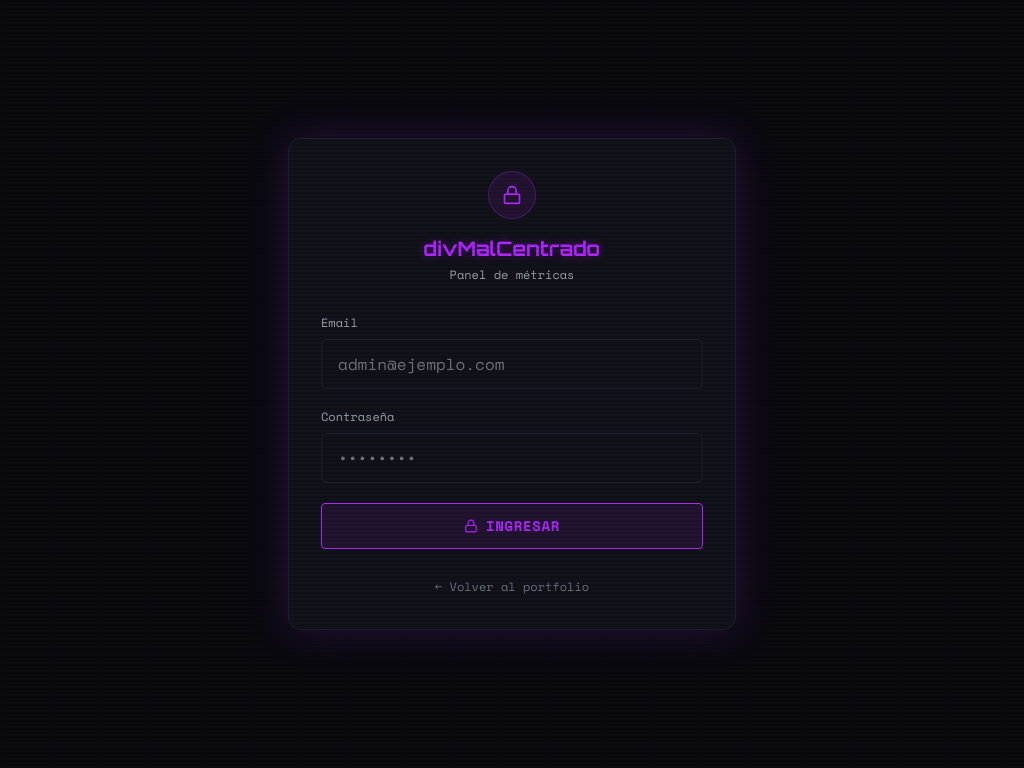
Test: Login Component › shows "Demasiados intentos" on 429
This screenshot has width=1024, height=768.
Type "admin@test.com" into the field with placeholder "admin@ejemplo.com" at coordinates (512, 364), box [321,339,703,389]
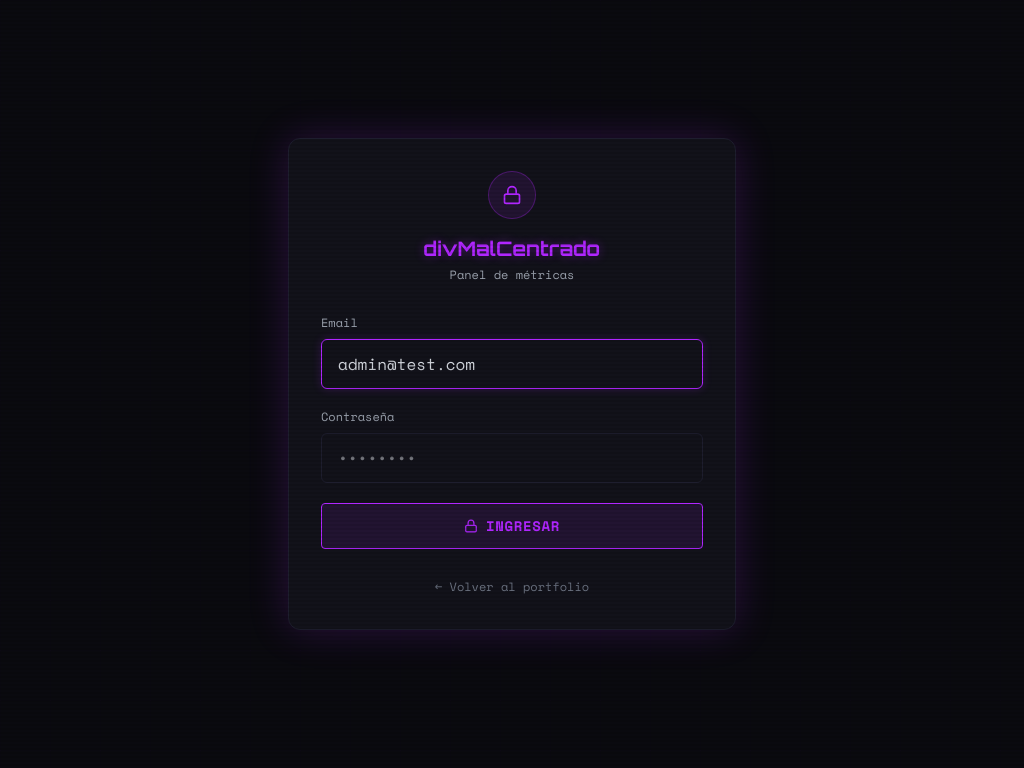
Type "password123" into the password field with placeholder "••••••••" at coordinates (512, 458), box [321,433,703,483]
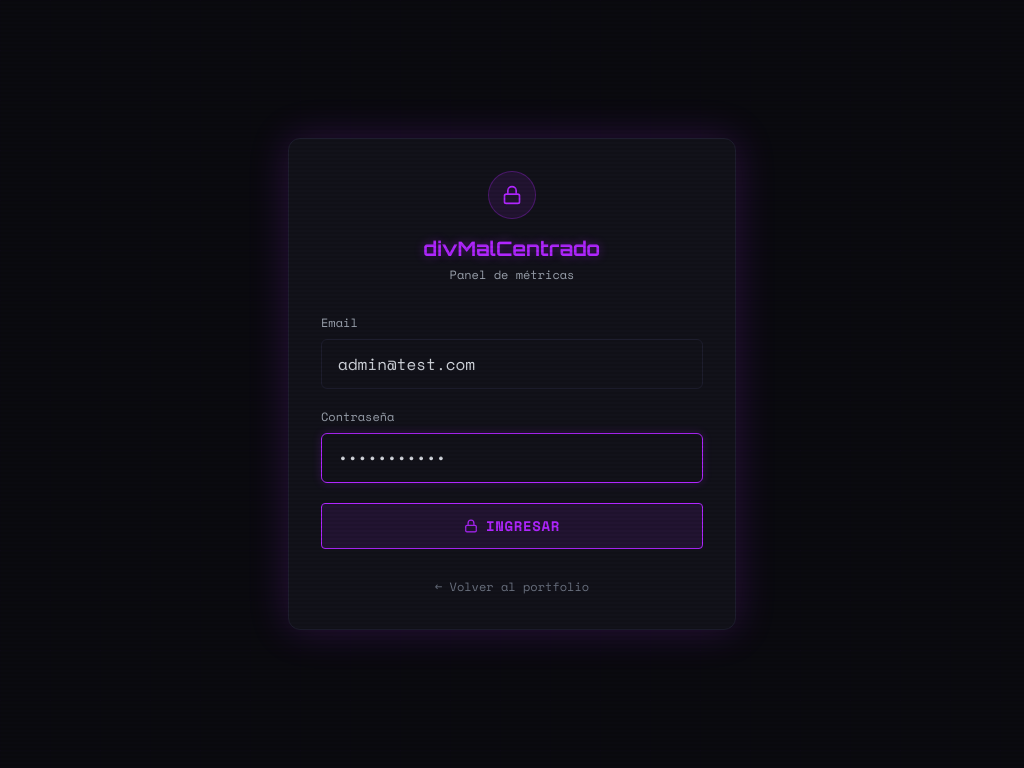
Click the button "Ingresar" at coordinates (512, 526), box [321,503,703,549]
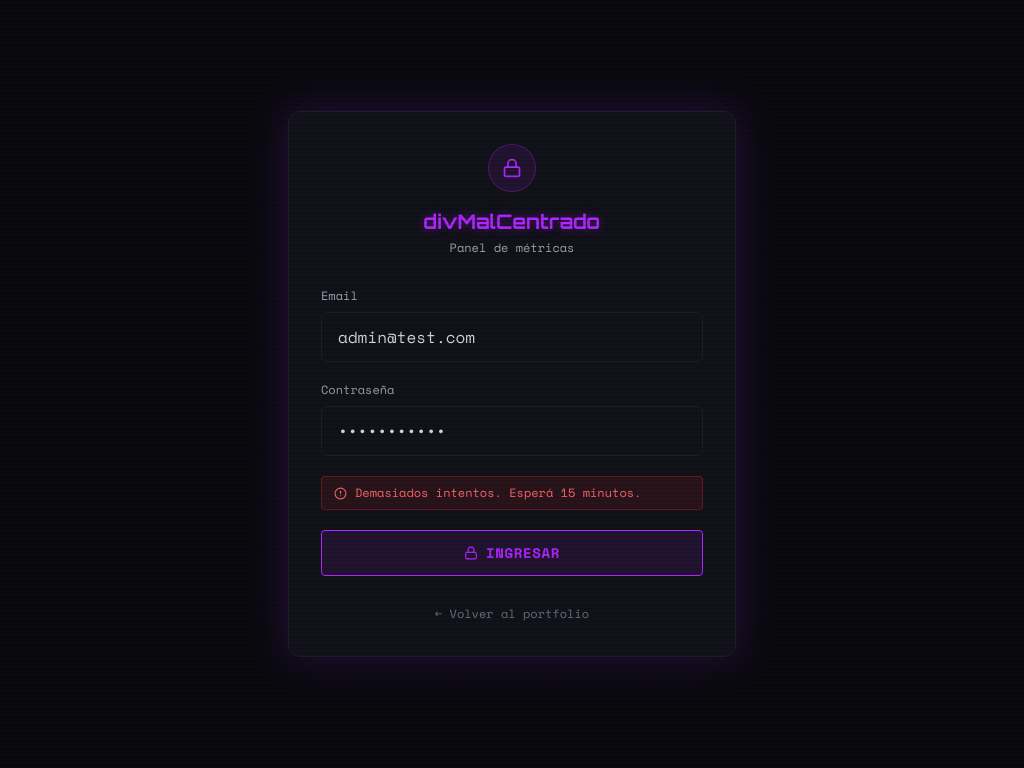
Now the text "Demasiados intentos. Esperá 15 minutos." is shown, box [355,485,641,501]
